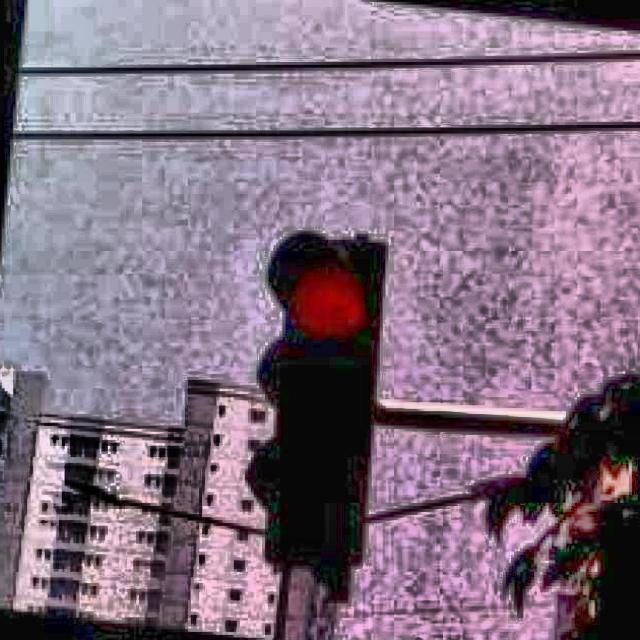red: (259, 235, 369, 574)
